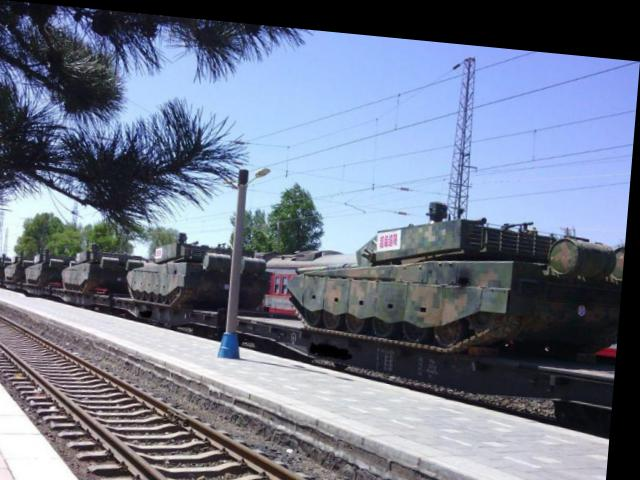tank: (298, 197, 620, 351), (132, 237, 272, 304), (68, 250, 130, 288), (31, 255, 65, 283), (10, 258, 28, 279), (0, 259, 7, 275)
